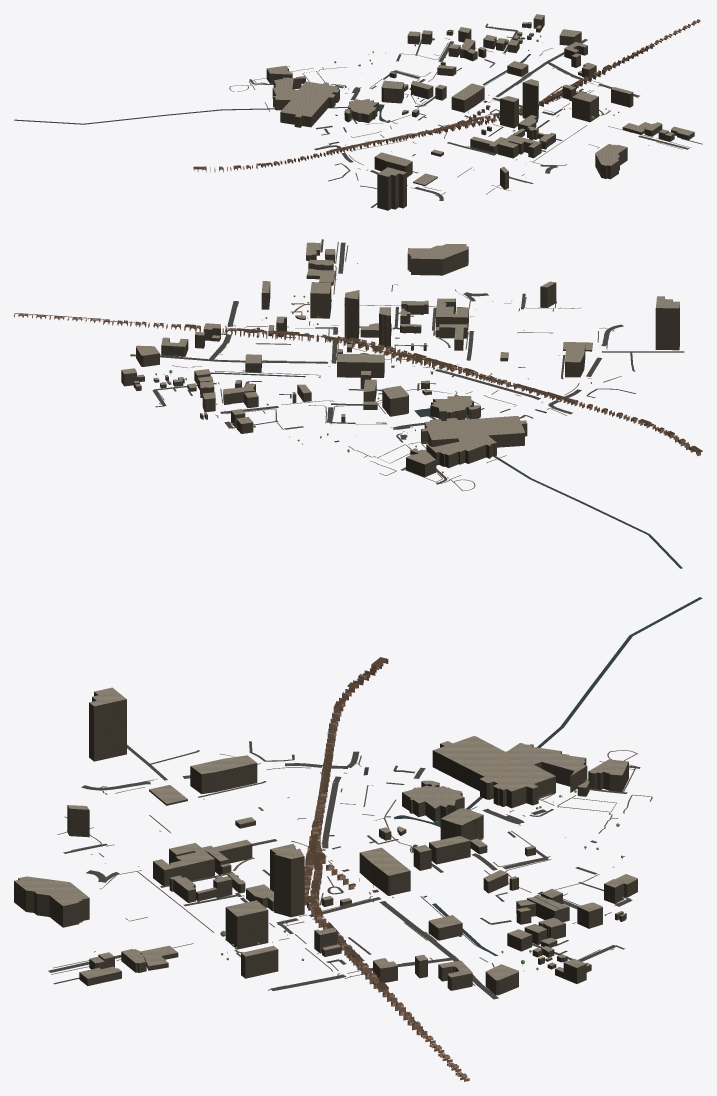
File: sur_c.glb
The picture shows the model from 3 angles, top to bottom: view 1: azimuth 30°, elevation 25°; view 2: azimuth 150°, elevation 25°; view 3: azimuth 270°, elevation 25°; orthographic projection. The views are drawn at different scales.
Parts seen in each view (by area): view 1: bldg_23112318, bldg_682060630, bldg_136506119, bldg_151751118, bldg_796971151, bldg_705574569, bldg_165386099, bldg_985533251, bldg_431832637, bldg_136507470, bldg_172065476, canal_243448342 (+4 smaller); view 2: bldg_23112318, bldg_136506119, bldg_682060630, bldg_705574569, bldg_165386099, bldg_796971151, bldg_151751118, bldg_985533251, bldg_172065476, bldg_431832637, bldg_29450342, canal_243448342 (+1 smaller); view 3: bldg_23112318, bldg_136506119, bldg_682060630, bldg_431832637, bldg_985533251, bldg_796971151, bldg_151751118, bldg_165386099, bldg_705574569, bldg_172065476, bldg_29450342, bldg_990174133 (+5 smaller).
Boxes of the visible parts, x1,y1,x2,y2 form: bldg_23112318: [272, 77, 339, 127]; bldg_682060630: [377, 167, 406, 210]; bldg_136506119: [595, 144, 627, 179]; bldg_151751118: [497, 135, 541, 158]; bldg_796971151: [572, 91, 598, 122]; bldg_705574569: [451, 83, 484, 112]; bldg_165386099: [344, 99, 378, 123]; bldg_985533251: [522, 79, 538, 121]; bldg_431832637: [374, 152, 412, 177]; bldg_136507470: [500, 96, 518, 128]; bldg_172065476: [381, 80, 403, 103]; canal_243448342: [14, 107, 347, 124]; bldg_23112318: [421, 416, 527, 468]; bldg_136506119: [407, 244, 468, 275]; bldg_682060630: [655, 296, 679, 350]; bldg_705574569: [337, 354, 384, 377]; bldg_165386099: [430, 395, 480, 421]; bldg_796971151: [310, 282, 331, 318]; bldg_151751118: [436, 298, 468, 329]; bldg_985533251: [344, 290, 359, 342]; bldg_172065476: [382, 385, 408, 416]; bldg_431832637: [565, 342, 585, 377]; bldg_29450342: [406, 449, 436, 477]; canal_243448342: [428, 415, 682, 568]; bldg_23112318: [432, 736, 587, 808]; bldg_136506119: [14, 876, 89, 927]; bldg_682060630: [89, 687, 126, 761]; bldg_431832637: [190, 755, 257, 794]; bldg_985533251: [274, 848, 304, 917]; bldg_796971151: [225, 900, 268, 949]; bldg_151751118: [153, 843, 214, 885]; bldg_165386099: [402, 780, 464, 822]; bldg_705574569: [359, 847, 410, 895]; bldg_172065476: [440, 808, 483, 840]; bldg_29450342: [588, 759, 628, 791]; bldg_990174133: [241, 945, 278, 978].
Size of the model in its own units: 1703 by 97.78 by 1015.
12 materials, 6 textured.
